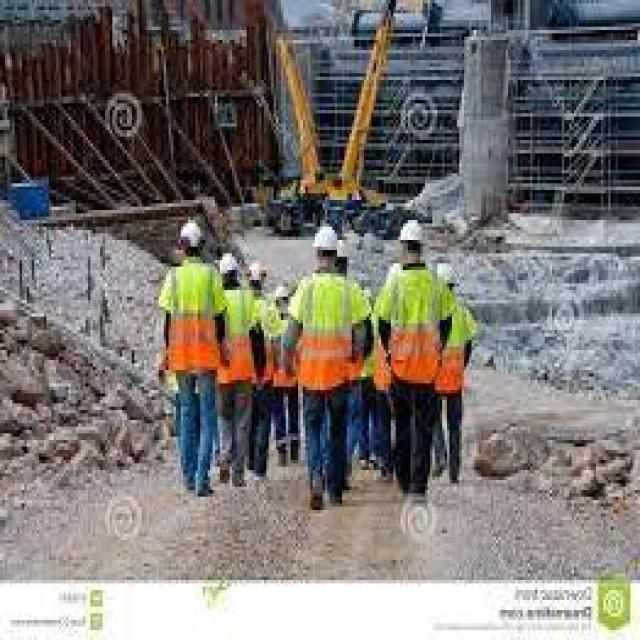reflective_jacket: (279, 273, 374, 400), (163, 260, 222, 386), (388, 266, 442, 386), (432, 287, 476, 402), (216, 285, 251, 395), (245, 293, 280, 399)
safety_helmet: (312, 220, 342, 250), (398, 216, 425, 243), (178, 220, 202, 250), (217, 250, 239, 276)
